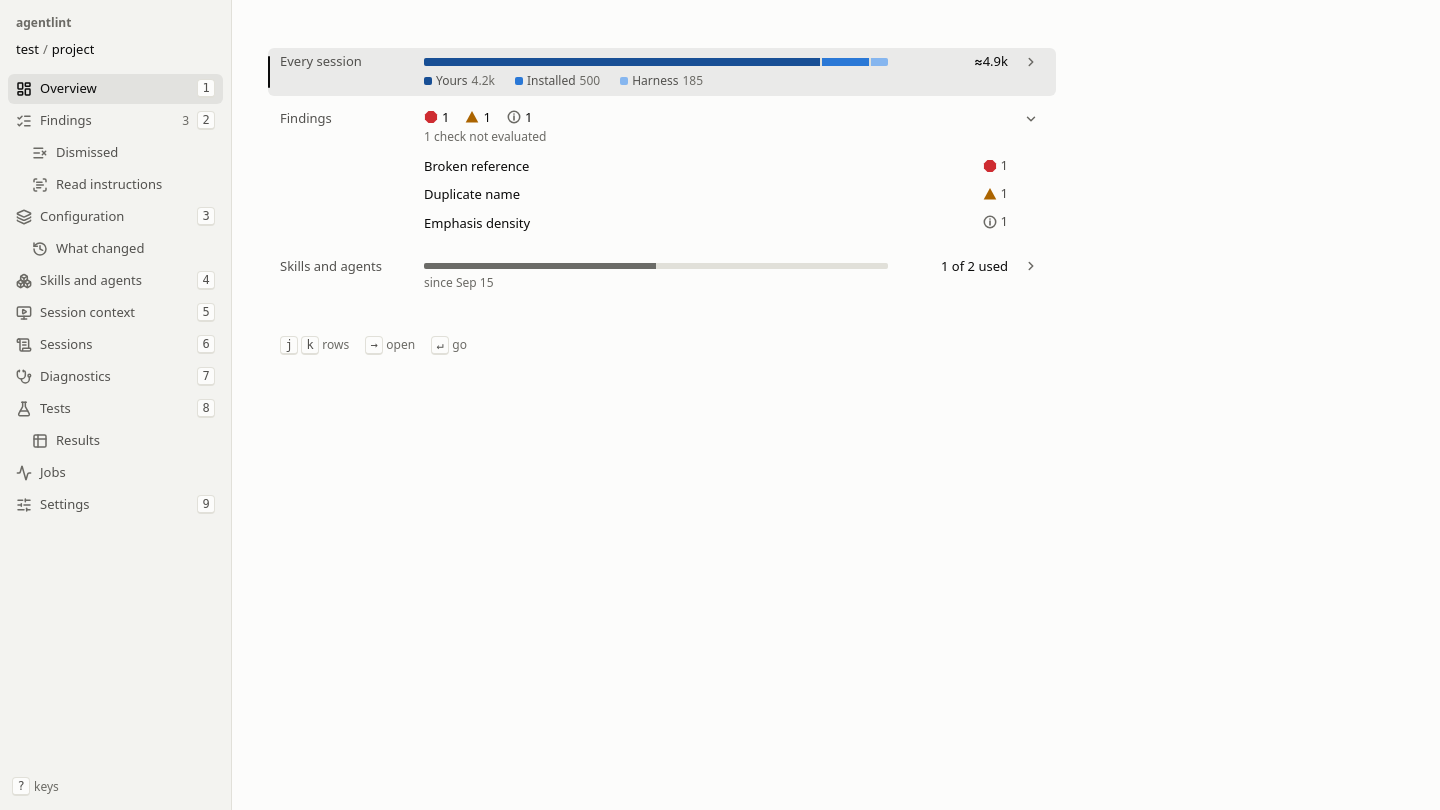
the overview › counts findings by severity, each a link to its filter, and lists the checks with their mix
The width and height of the screenshot is (1440, 810).
Hover over the text "Broken reference": (477,166) [424, 157, 529, 175]
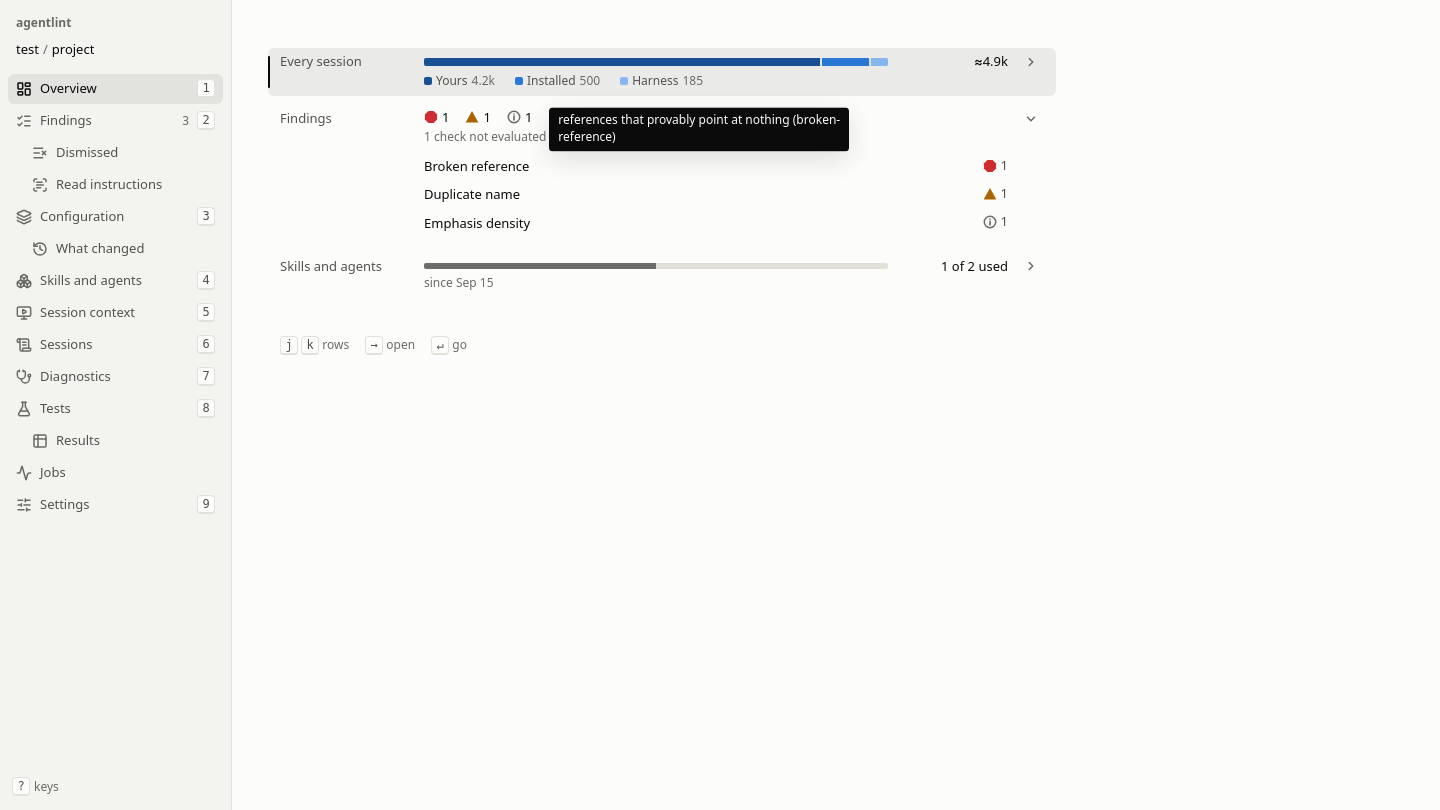
Check: the tooltip reads "references that provably point at nothing (broken-reference)", box [558, 112, 840, 145]
Click the link named "1 error": (437,117) [424, 108, 449, 127]
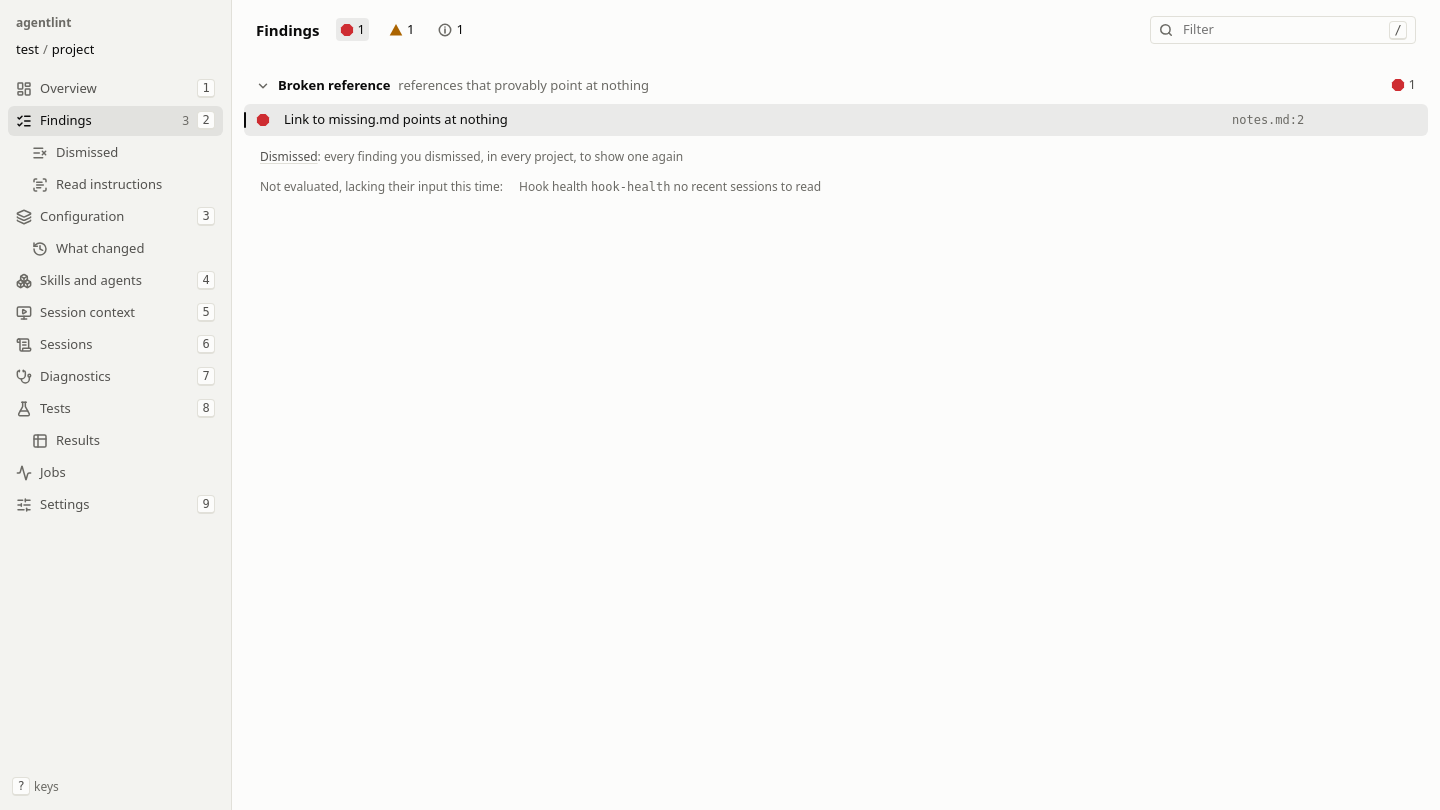
Check: the text "Link to missing.md points at nothing" is shown, box [284, 110, 508, 128]
